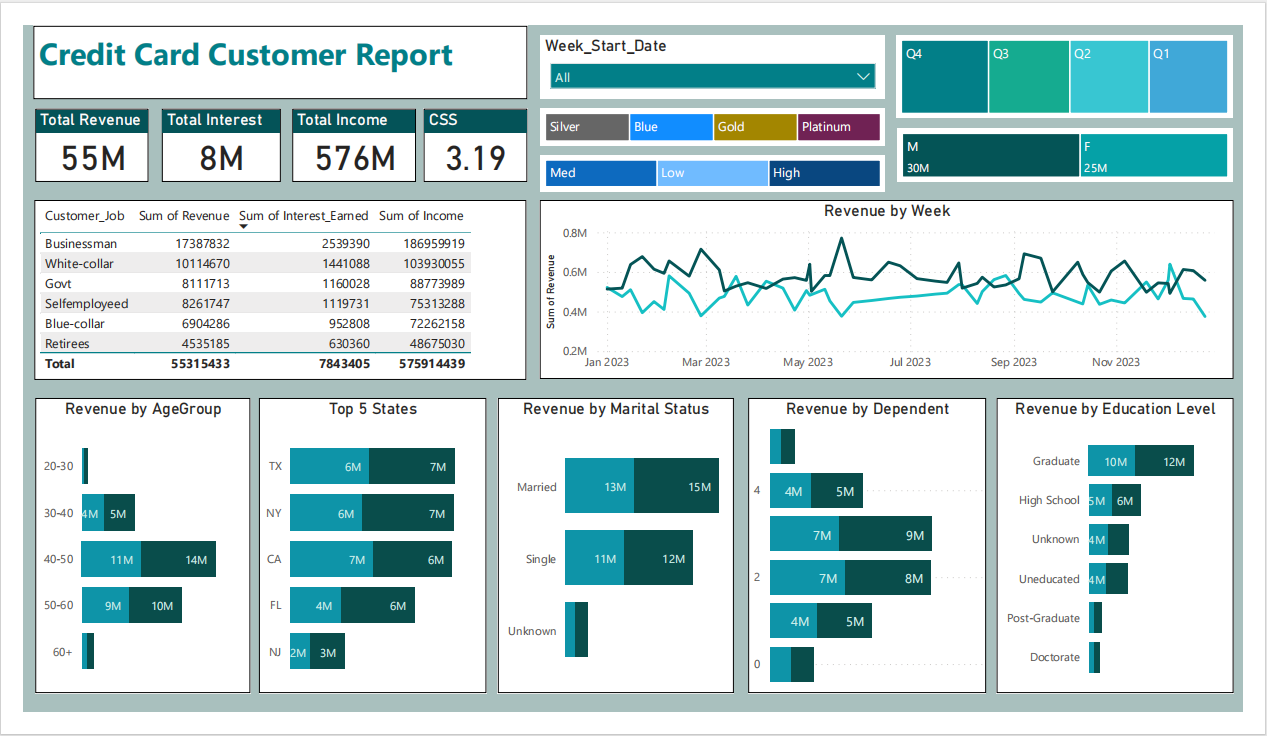

Layout of this report page (visuals, bound fields, positions):
{"tool":"powerbi","page":{"name":"cc-customer","canvas":[1280,720],"ordinal":1},"visuals":[{"type":"textbox","box":[9.8,0,519.2,77.3],"z":0},{"type":"barChart","title":"Revenue by Marital Status","fields":{"Y":["Sum(credit_card.Revenue)"],"Category":["customer.Marital_Status"],"Series":["customer.Gender"]},"box":[497.9,391.3,248.4,309.3],"z":1000},{"type":"tableEx","fields":{"Values":["customer.Customer_Job","Sum(credit_card.Revenue)","Sum(credit_card.Interest_Earned)","Sum(customer.Income)"]},"box":[11,182.9,516.8,189],"z":2000},{"type":"card","title":"Total Revenue","fields":{"Values":["Sum(credit_card.Revenue)"]},"box":[12.3,87.2,119.1,77.3],"z":3000},{"type":"card","title":"Total Income","fields":{"Values":["Sum(customer.Income)"]},"box":[282.3,87.2,130.1,77.3],"z":4000},{"type":"card","title":"Total Interest","fields":{"Values":["Sum(credit_card.Interest_Earned)"]},"box":[144.8,87.2,125.2,77.3],"z":5000},{"type":"card","title":"CSS","fields":{"Values":["Avg(customer.Cust_Satisfaction_Score)"]},"box":[419.8,87.2,109.2,77.3],"z":6000},{"type":"slicer","title":"Week_Start_Date","fields":{"Values":["credit_card.fixed_date"]},"box":[542.5,9.8,362.1,67.5],"z":7000},{"type":"treemap","fields":{"Group":["credit_card.Qtr"],"Values":["Sum(credit_card.Client_Num)"]},"box":[916.9,9.8,353.5,87.2],"z":8000},{"type":"treemap","fields":{"Group":["customer.Gender"],"Values":["Sum(credit_card.Revenue)"]},"box":[918.1,108,352.3,56.5],"z":9000},{"type":"treemap","fields":{"Group":["credit_card.Card_Category"],"Values":["Avg(credit_card.Client_Num)"]},"box":[542.5,87.2,362.1,39.3],"z":10000},{"type":"treemap","fields":{"Group":["customer.IncomeGroup"],"Values":["Avg(credit_card.Client_Num)"]},"box":[542.5,136.2,362.1,38.1],"z":11000},{"type":"lineChart","title":"Revenue by Week","fields":{"Y":["Sum(credit_card.Revenue)"],"Category":["credit_card.fixed_date.Variation.Date Hierarchy.Year","credit_card.fixed_date.Variation.Date Hierarchy.Month","credit_card.fixed_date.Variation.Date Hierarchy.Day"],"Series":["customer.Gender"]},"box":[542.4,182.8,728.7,188.6],"z":12000},{"type":"barChart","title":"Revenue by AgeGroup","fields":{"Y":["Sum(credit_card.Revenue)"],"Category":["customer.AgeGroup"],"Series":["customer.Gender"]},"box":[11.7,391.3,226.1,309.3],"z":13000},{"type":"barChart","title":"Revenue by Education Level","fields":{"Y":["Sum(credit_card.Revenue)"],"Category":["customer.Education_Level"],"Series":["customer.Gender"]},"box":[1021.6,391.3,249.5,309.3],"z":14000},{"type":"barChart","title":"Revenue by Dependent","fields":{"Y":["Sum(credit_card.Revenue)"],"Category":["customer.Dependent_Count"],"Series":["customer.Gender"]},"box":[761.5,391.3,249.5,309.3],"z":15000},{"type":"barChart","title":"Top 5 States","fields":{"Y":["Sum(credit_card.Revenue)"],"Category":["customer.state_cd"],"Series":["customer.Gender"]},"box":[247.2,391.3,239,309.3],"z":16000}]}

Visuals, with their boxes on the page's 1280x720 design canvas (x1, y1, x2, y2). These are canvas units, not pixel positions in the 1267x736 screenshot, which may show the page scaled, cropped or inside an application window:
textbox: pyautogui.locateOnScreen(10, 0, 529, 77)
"Revenue by Marital Status" barChart: pyautogui.locateOnScreen(498, 391, 746, 701)
tableEx - customer.Customer_Job x Sum(credit_card.Revenue): pyautogui.locateOnScreen(11, 183, 528, 372)
"Total Revenue" card: pyautogui.locateOnScreen(12, 87, 131, 164)
"Total Income" card: pyautogui.locateOnScreen(282, 87, 412, 164)
"Total Interest" card: pyautogui.locateOnScreen(145, 87, 270, 164)
"CSS" card: pyautogui.locateOnScreen(420, 87, 529, 164)
"Week_Start_Date" slicer: pyautogui.locateOnScreen(542, 10, 905, 77)
treemap - credit_card.Qtr x Sum(credit_card.Client_Num): pyautogui.locateOnScreen(917, 10, 1270, 97)
treemap - customer.Gender x Sum(credit_card.Revenue): pyautogui.locateOnScreen(918, 108, 1270, 164)
treemap - credit_card.Card_Category x Avg(credit_card.Client_Num): pyautogui.locateOnScreen(542, 87, 905, 126)
treemap - customer.IncomeGroup x Avg(credit_card.Client_Num): pyautogui.locateOnScreen(542, 136, 905, 174)
"Revenue by Week" lineChart: pyautogui.locateOnScreen(542, 183, 1271, 371)
"Revenue by AgeGroup" barChart: pyautogui.locateOnScreen(12, 391, 238, 701)
"Revenue by Education Level" barChart: pyautogui.locateOnScreen(1022, 391, 1271, 701)
"Revenue by Dependent" barChart: pyautogui.locateOnScreen(762, 391, 1011, 701)
"Top 5 States" barChart: pyautogui.locateOnScreen(247, 391, 486, 701)
